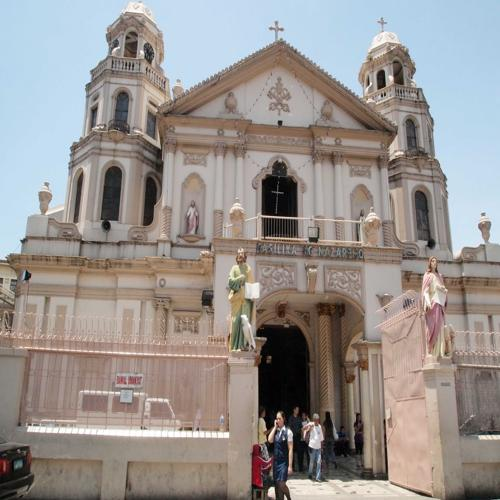Quiapo Church: (10, 1, 495, 468)
